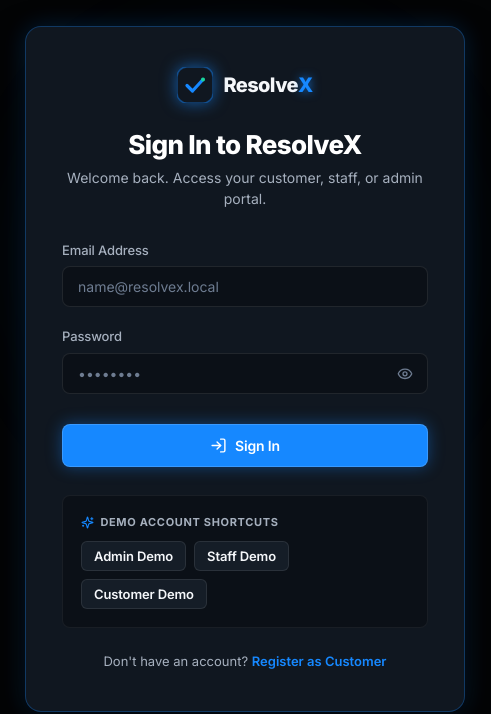
it: Frontend Unit Tests: LoginPage Component & Validation › populates fields when demo buttons are clicked
This screenshot has width=491, height=714.
Step 1. Click the button "Admin Demo" → (134,556), box [81,541,186,571]
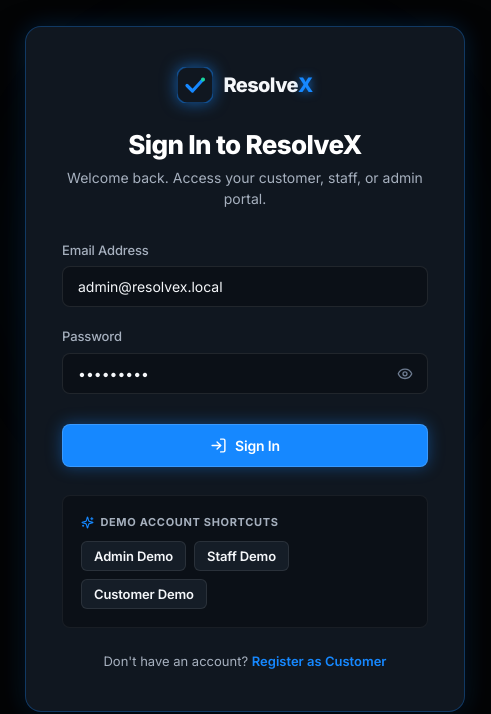
Result: the field labelled "Email Address" holds "admin@resolvex.local" at [62,266,428,308]
Result: the password field labelled "Password" holds "Admin123!" at [62,353,428,394]
